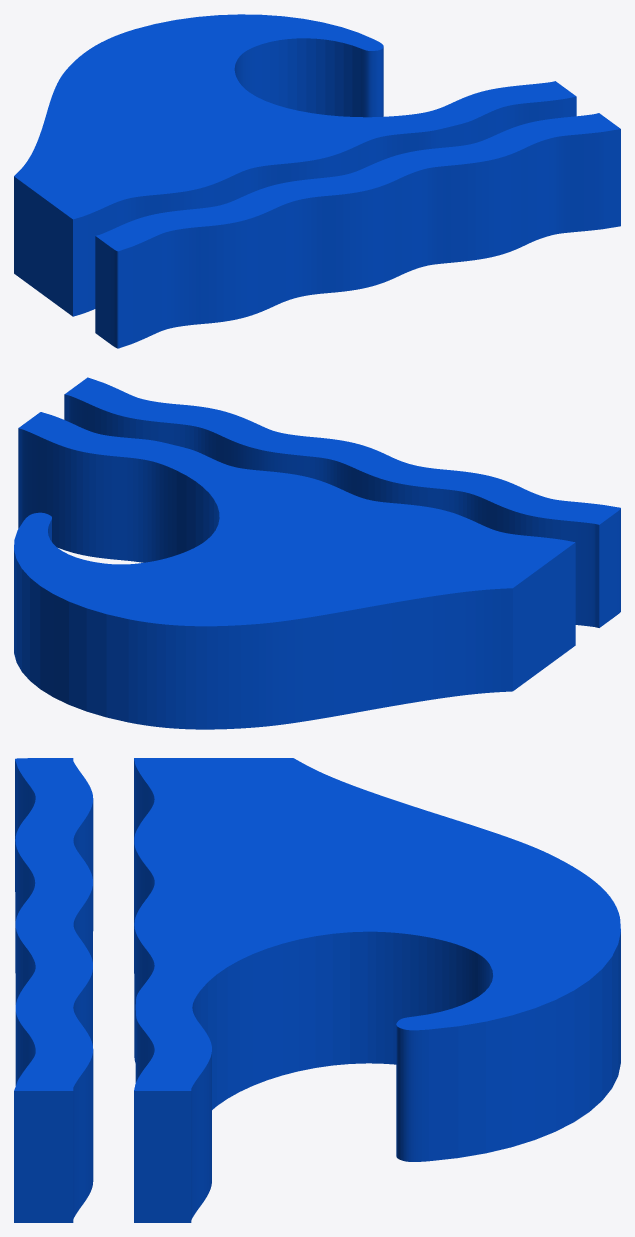
The model's file is Wasser_simple.fbx.
The picture shows the model from 3 angles, top to bottom: view 1: azimuth 30°, elevation 25°; view 2: azimuth 150°, elevation 25°; view 3: azimuth 270°, elevation 25°; orthographic projection. The views are drawn at different scales.
Parts seen in each view (by area): view 1: path347; view 2: path347; view 3: path347.
Boxes of the visible parts, x1,y1,x2,y2 form: path347: (14,14,620,348); path347: (14,377,620,729); path347: (14,758,620,1222).
Size of the model in its own units: 8.13 by 1.5 by 6.26.
